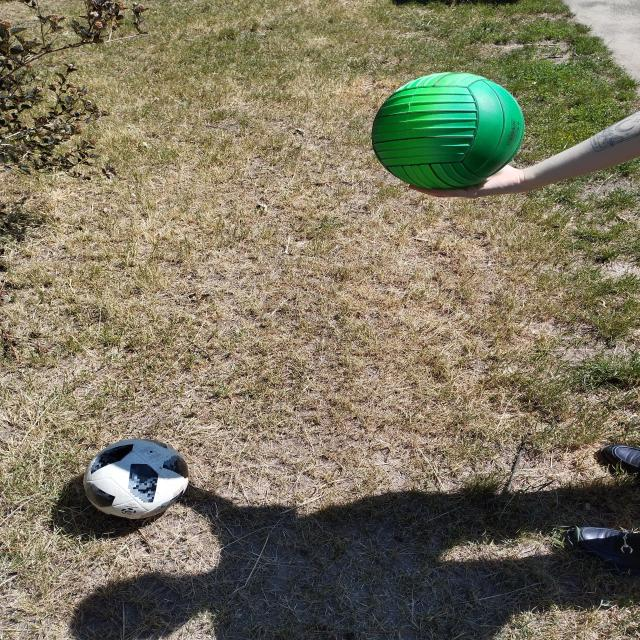nozna: (83, 438, 189, 519)
zielona: (371, 72, 526, 189)
